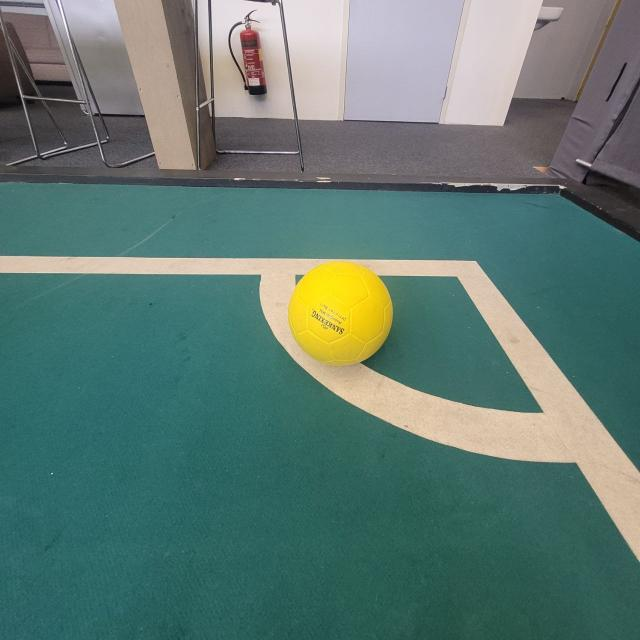ball: (285, 260, 397, 367)
